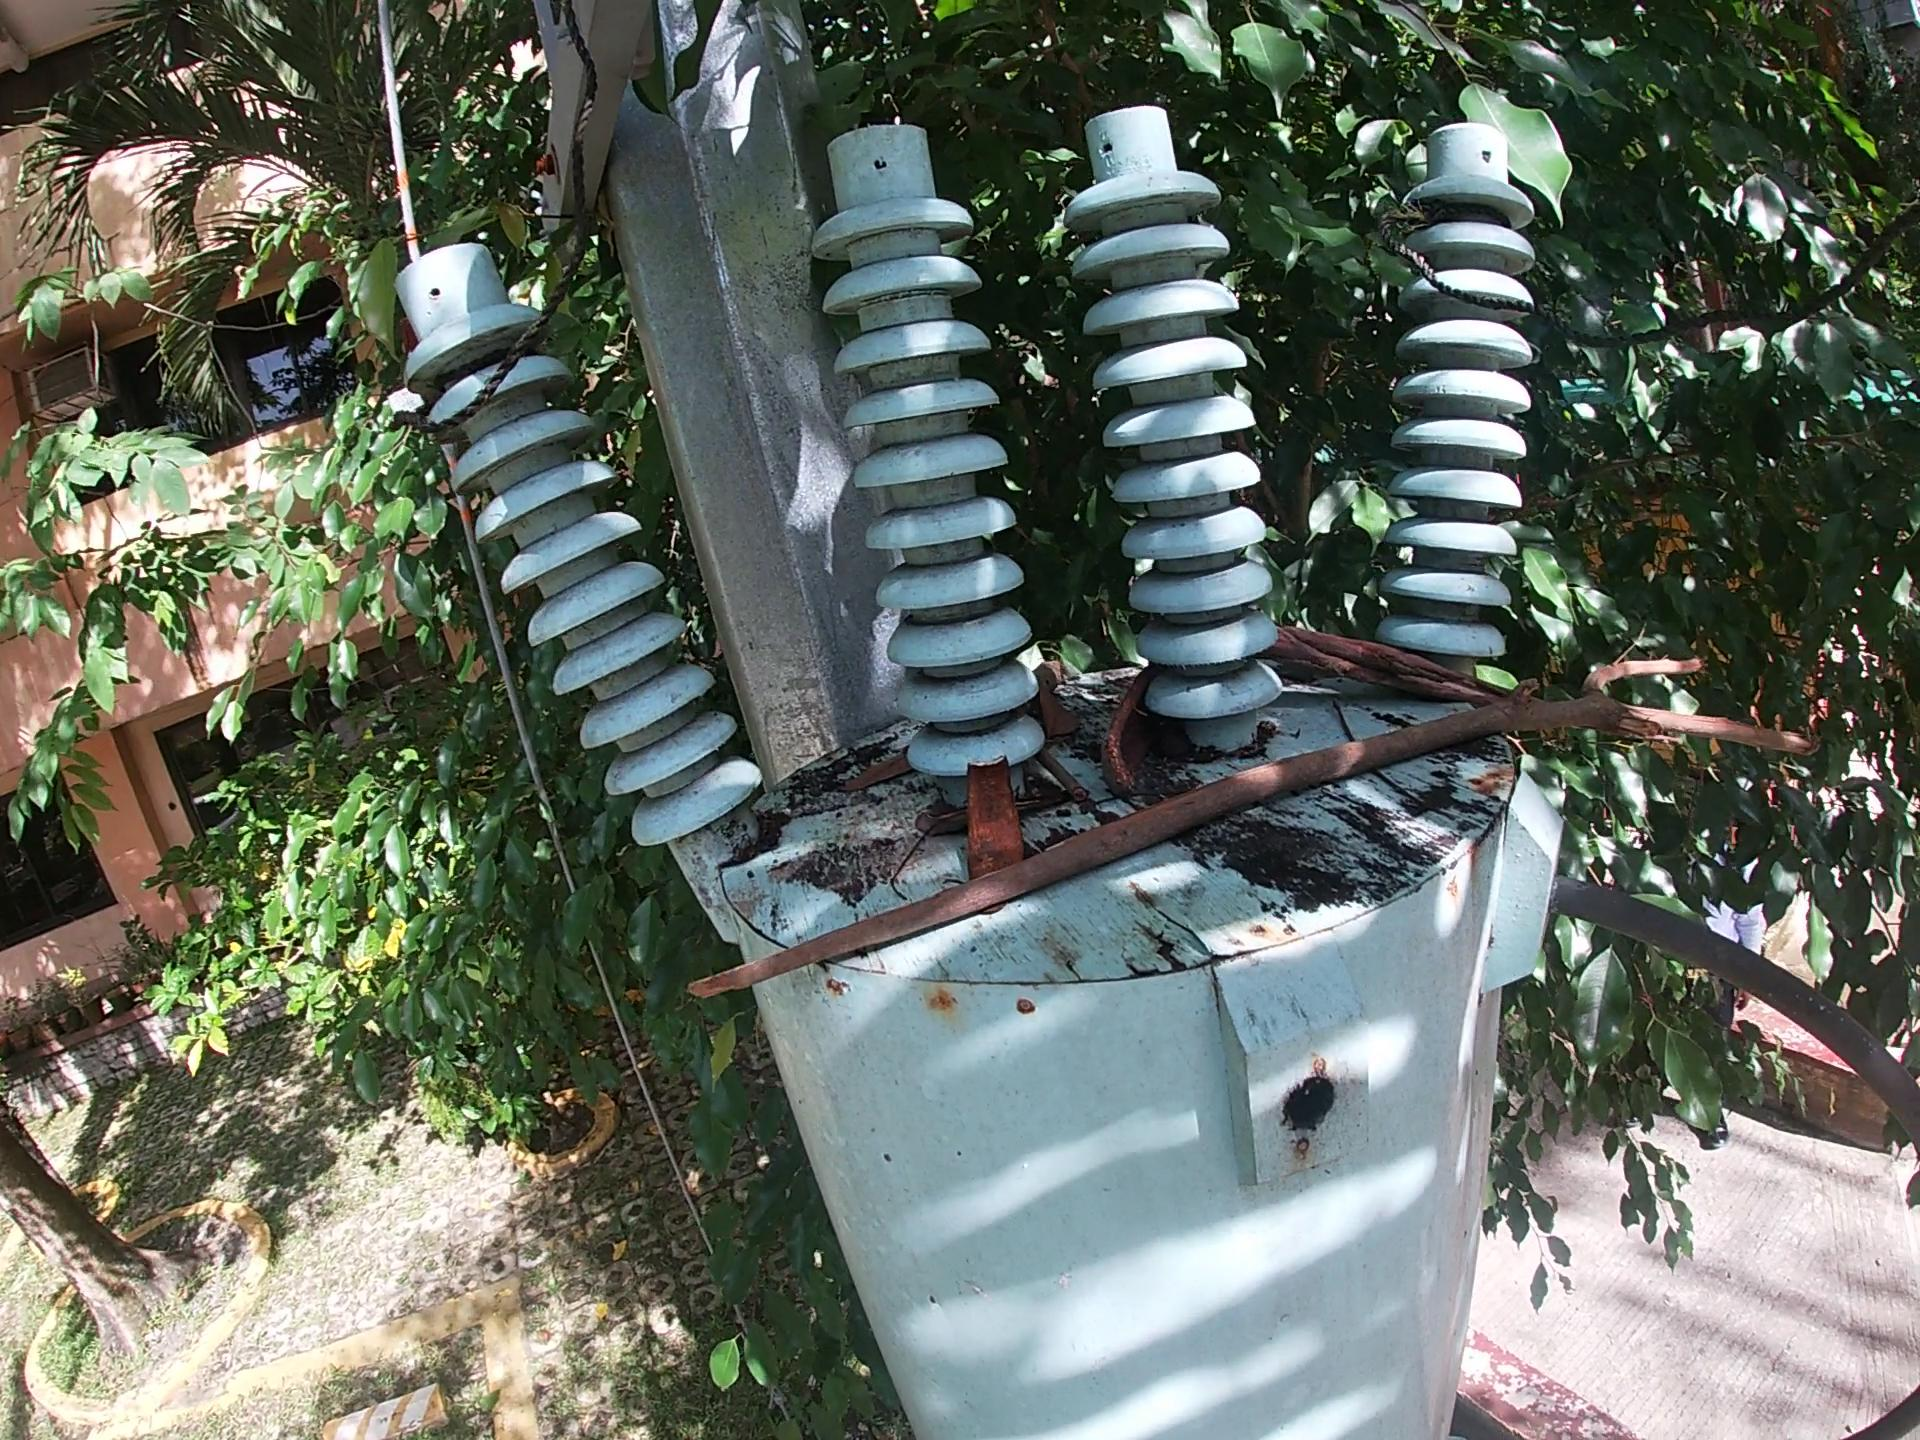leaf: (838, 756, 918, 794), (919, 809, 972, 849), (1048, 694, 1085, 746)
mahogany fruit: (957, 749, 1031, 867), (1101, 678, 1169, 803)
tree branch: (650, 643, 1826, 1013), (1277, 617, 1507, 700), (1045, 755, 1113, 818), (881, 826, 930, 898), (1380, 768, 1448, 817), (1036, 646, 1061, 711), (1022, 796, 1079, 823), (1333, 696, 1356, 756)
